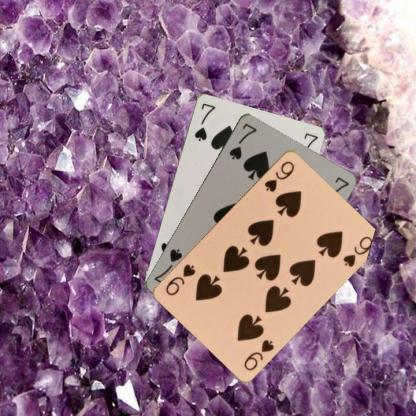7s: (226, 120, 258, 161), (191, 100, 217, 143)
9s: (241, 336, 276, 372), (262, 158, 296, 193)
